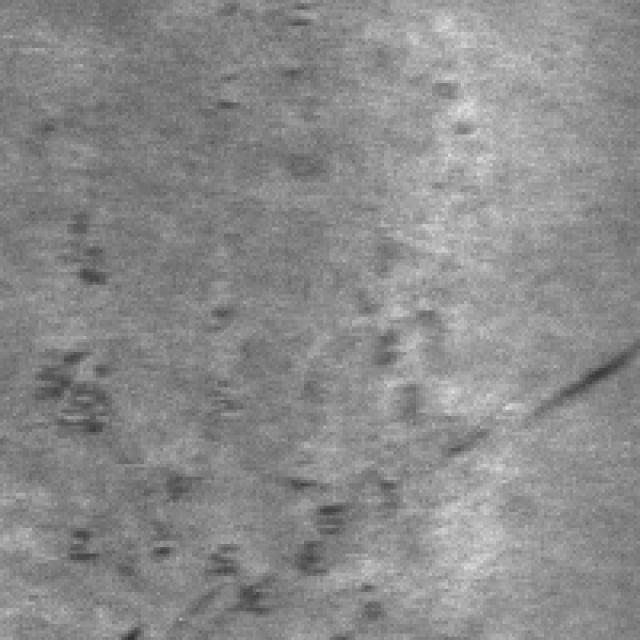rolled-in_scale: (208, 282, 486, 614), (29, 208, 131, 557), (205, 0, 333, 138)
